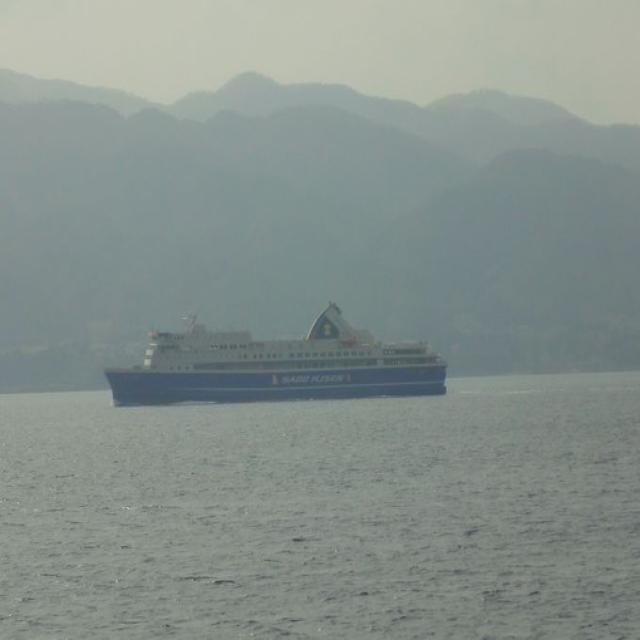passenger ship: (97, 304, 470, 428)
